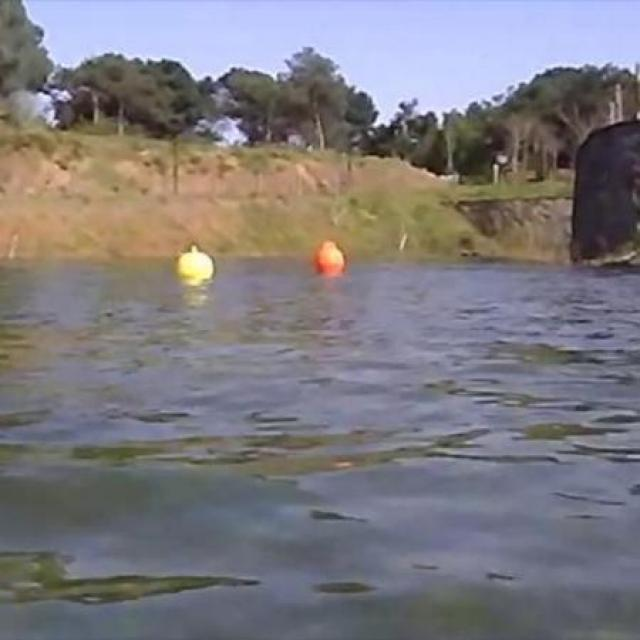buoy: (314, 238, 350, 281), (183, 247, 215, 289)
